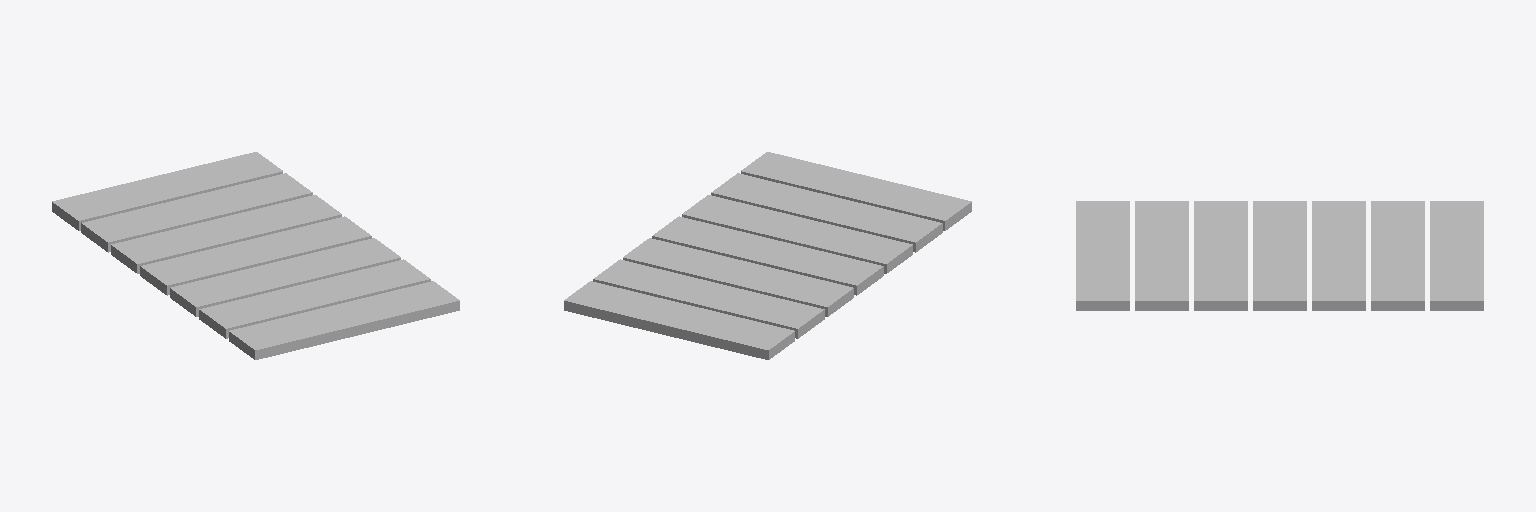
File: Ramp.obj
3 views of the same model, side by side, from view 1: azimuth 30°, elevation 25°; view 2: azimuth 150°, elevation 25°; view 3: azimuth 270°, elevation 25° (orthographic).
Parts seen in each view (by area): view 1: Cube.003_Mesh.016; view 2: Cube.003_Mesh.016; view 3: Cube.003_Mesh.016.
Part boxes in pixels (x1,y1,x2,y2): Cube.003_Mesh.016: (52, 152, 459, 359); Cube.003_Mesh.016: (564, 152, 971, 359); Cube.003_Mesh.016: (1076, 201, 1483, 310).
Bounding box in the file's own units: 7.62 × 0.3539 × 13.12.